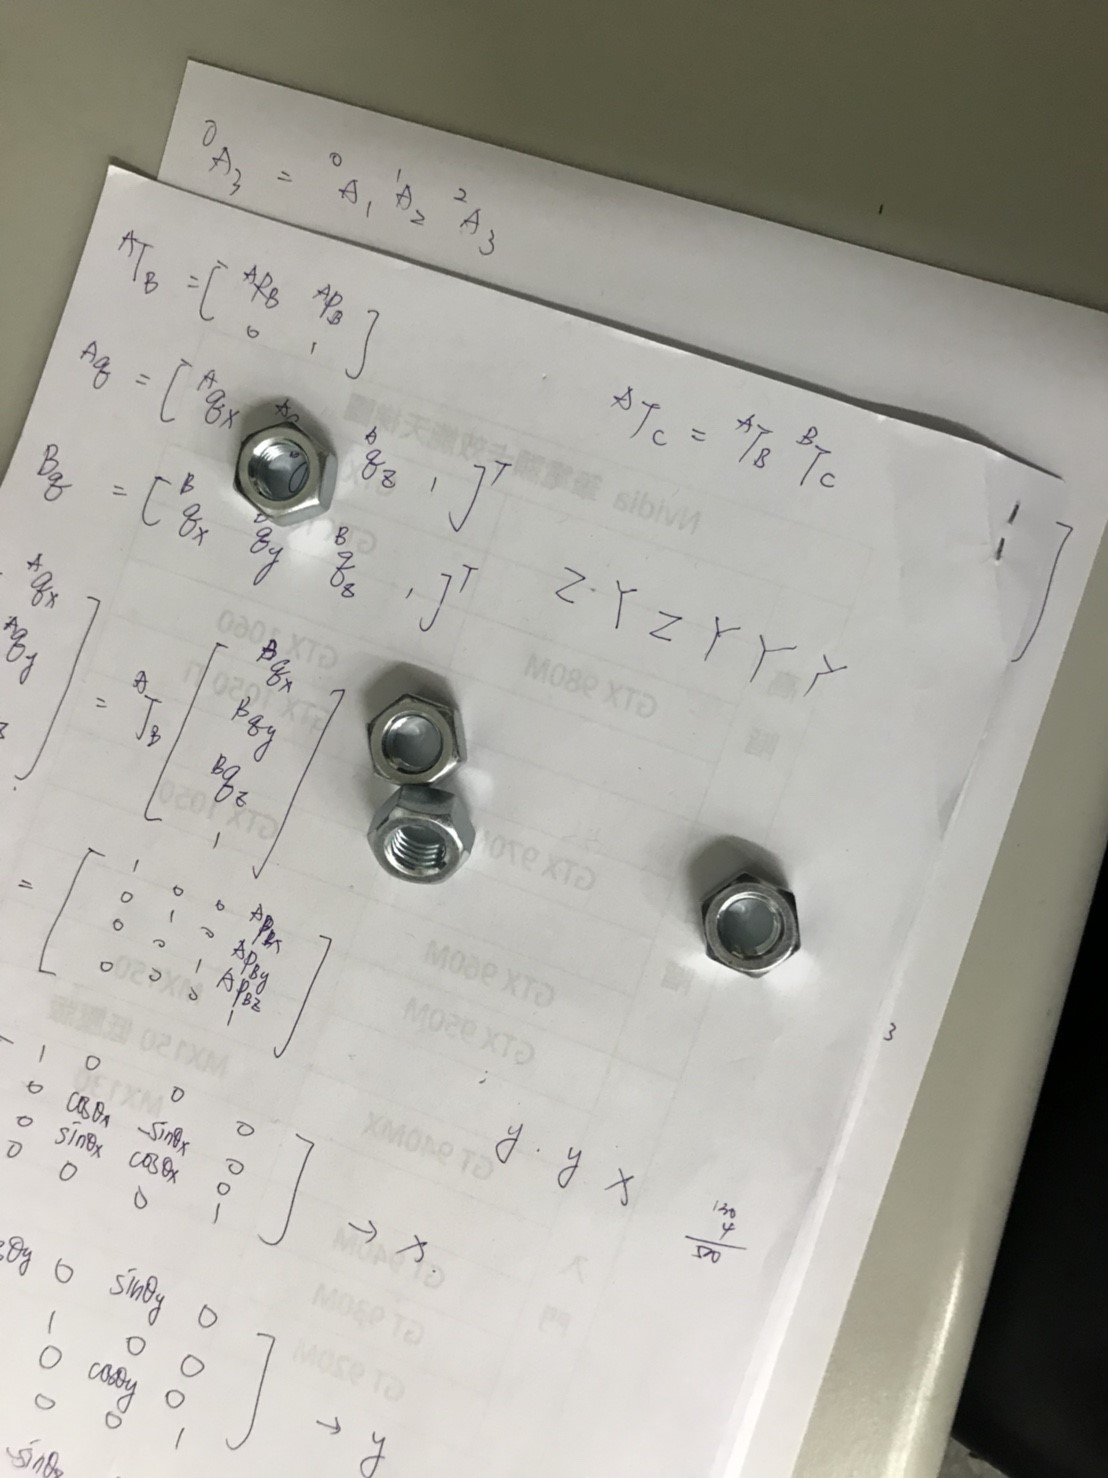nut: (696, 868, 804, 978), (364, 687, 466, 791), (364, 793, 481, 880), (234, 424, 336, 521)
